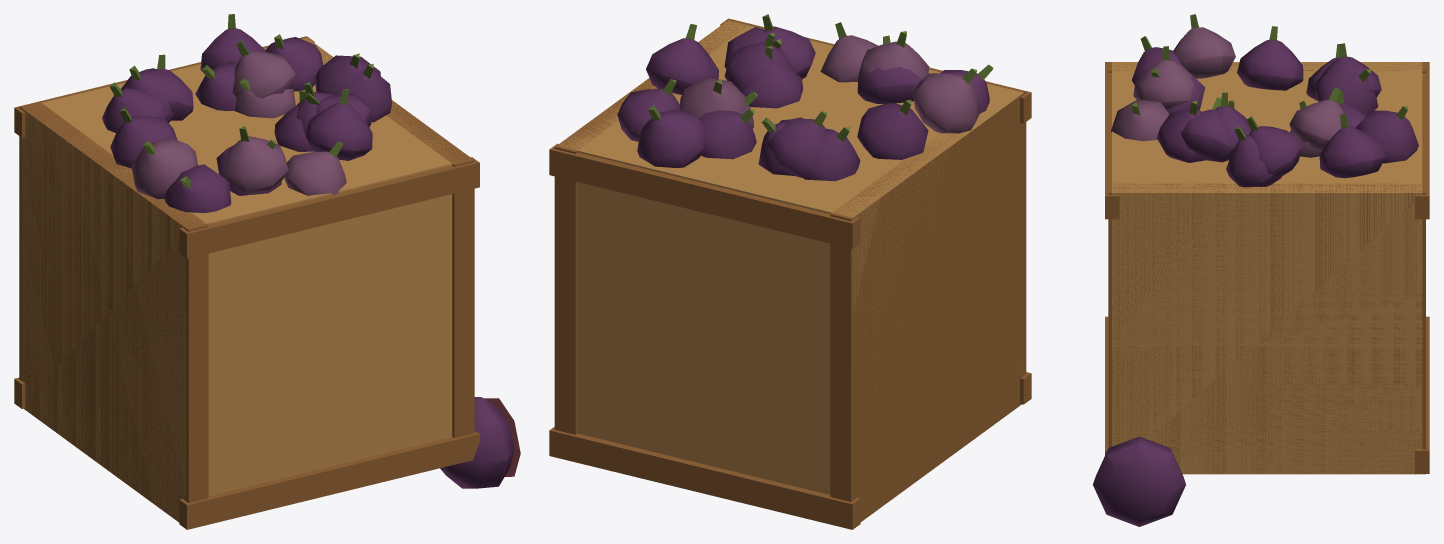
The model's file is fig_crate.glb.
3 renders of one model, left to right at view 1: azimuth 30°, elevation 25°; view 2: azimuth 150°, elevation 25°; view 3: azimuth 270°, elevation 25°, orthographic. The views are drawn at different scales.
Parts seen in each view (by area): view 1: decor-fig_crate; view 2: decor-fig_crate; view 3: decor-fig_crate.
Part boxes in pixels (x1,y1,x2,y2): decor-fig_crate: (14,14,520,529); decor-fig_crate: (549,14,1031,529); decor-fig_crate: (1093,14,1429,526).
Size of the model in its own units: 1.08 by 1.15 by 1.01.
